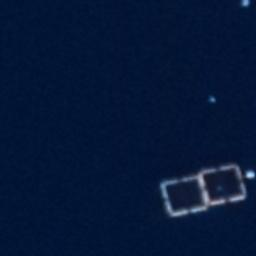square_solid: (156, 169, 212, 222), (195, 158, 250, 211)
